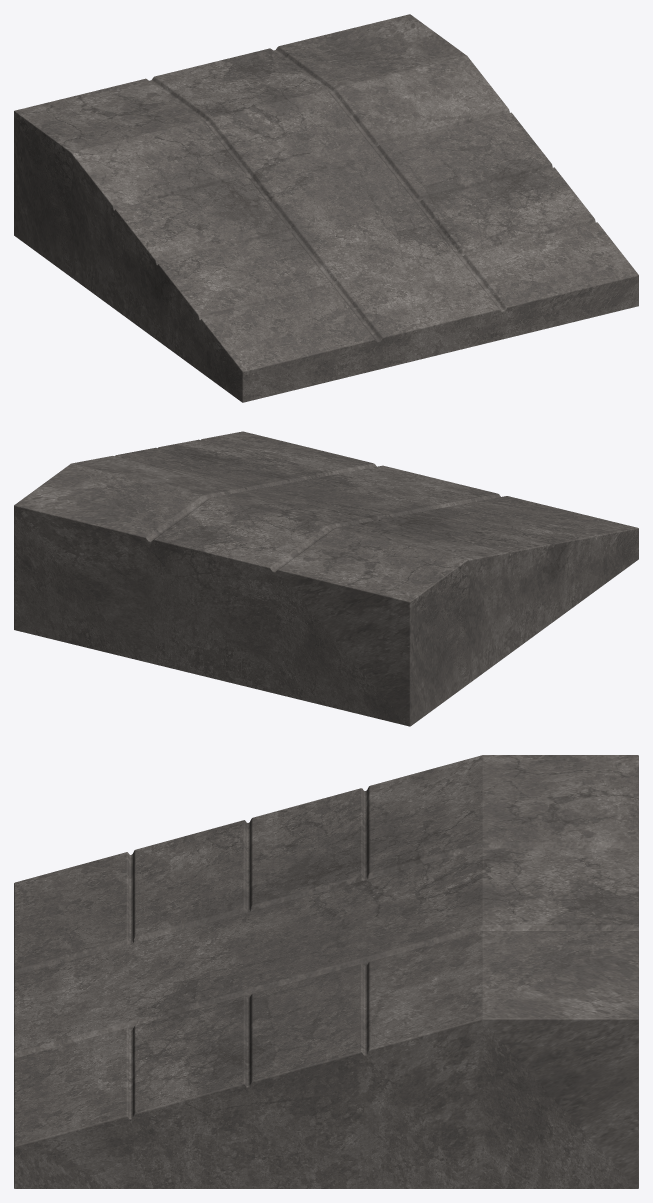
The model's file is SK7 RAMP.fbx.
The picture shows the model from 3 angles, top to bottom: view 1: azimuth 30°, elevation 25°; view 2: azimuth 150°, elevation 25°; view 3: azimuth 270°, elevation 25°; orthographic projection. The views are drawn at different scales.
Visible parts, largest first — view 1: SK7 RAMP; view 2: SK7 RAMP; view 3: SK7 RAMP.
Part boxes in pixels (box(x1,y1,x2,y2)): SK7 RAMP: box(14, 14, 638, 402); SK7 RAMP: box(14, 431, 638, 726); SK7 RAMP: box(14, 755, 638, 1188).
Size of the model in its own units: 400 by 120 by 400.
